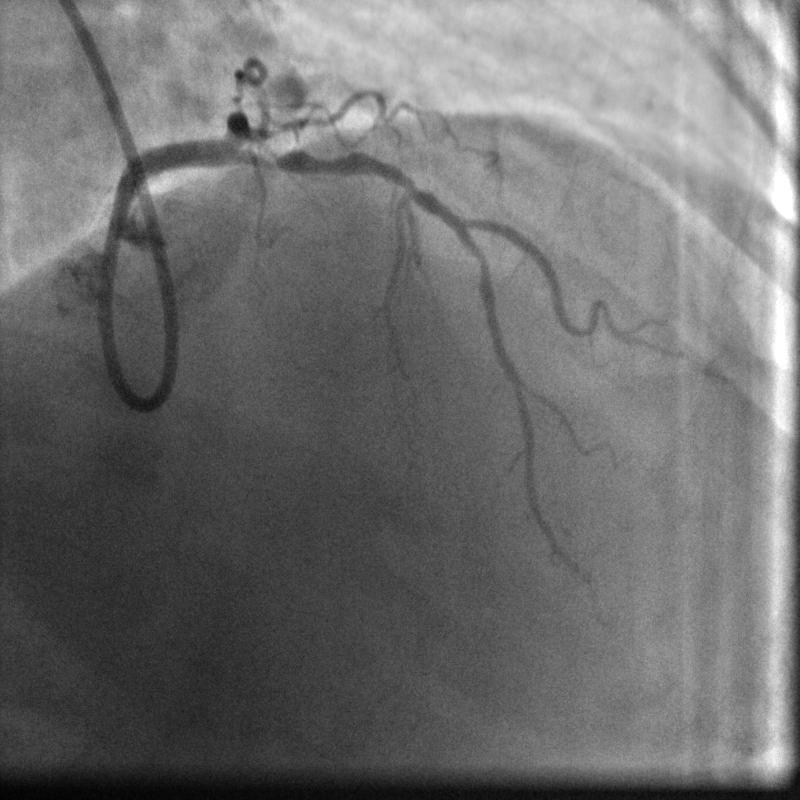Stenosis: (252, 143, 351, 173)
